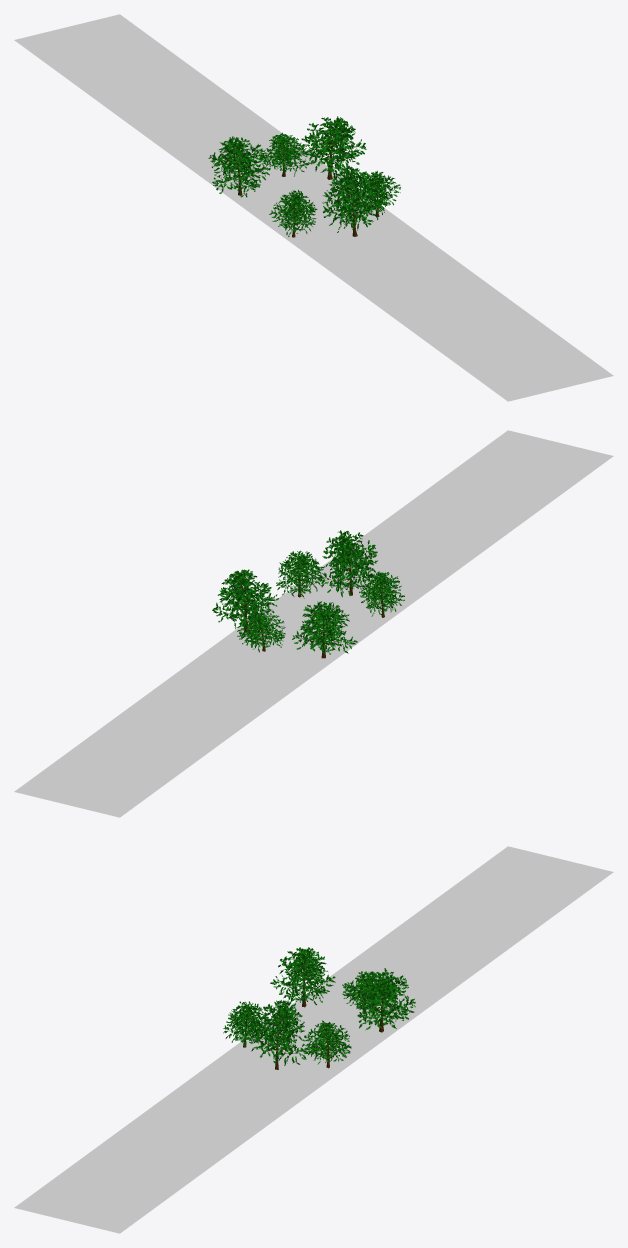
The model's file is Basic 1.fbx.
The picture shows the model from 3 angles, top to bottom: view 1: azimuth 30°, elevation 25°; view 2: azimuth 150°, elevation 25°; view 3: azimuth 330°, elevation 25°; orthographic projection.
Parts seen in each view (by area): view 1: Plane001, Foliage002, Foliage004, Foliage006, Foliage003, Foliage005, Foliage001; view 2: Plane001, Foliage002, Foliage004, Foliage006, Foliage001, Foliage005, Foliage003; view 3: Plane001, Foliage002, Foliage004, Foliage006, Foliage001, Foliage003, Foliage005.
Part boxes in pixels (x1,y1,x2,y2): Plane001: (14, 14, 613, 401); Foliage002: (322, 166, 381, 236); Foliage004: (301, 116, 366, 181); Foliage006: (208, 136, 270, 197); Foliage003: (269, 189, 317, 237); Foliage005: (258, 132, 309, 176); Foliage001: (355, 170, 400, 216); Plane001: (14, 430, 613, 817); Foliage002: (319, 530, 377, 597); Foliage004: (212, 569, 278, 633); Foliage006: (292, 601, 357, 658); Foliage001: (276, 550, 323, 598); Foliage005: (237, 609, 285, 652); Foliage003: (358, 571, 404, 617); Plane001: (14, 846, 613, 1233); Foliage002: (249, 1000, 308, 1069); Foliage004: (349, 968, 415, 1032); Foliage006: (270, 947, 335, 1007); Foliage001: (304, 1020, 351, 1068); Foliage003: (223, 1001, 268, 1047); Foliage005: (342, 971, 388, 1015).
Size of the model in its own units: 1355 by 589 by 8000.
